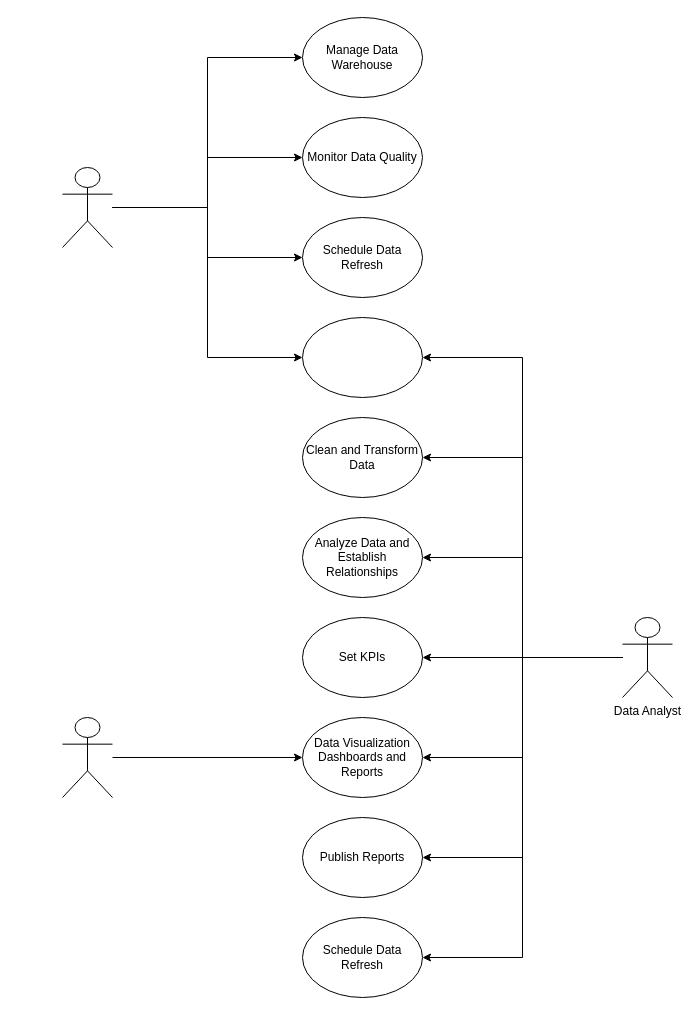
Some shapes in this 698 by 1015 pixel diagram are drawn without their labels. Here are the shapes that lost their labels. From the top down, the centre of each, then its label:
At pixel 87 207: "Data Warehouse Manager".
At pixel 362 357: "Load Data".
At pixel 87 757: "Stakeholders".
